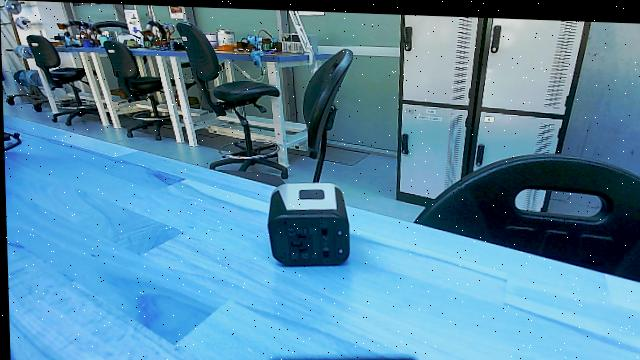adapter: (262, 179, 349, 265)
